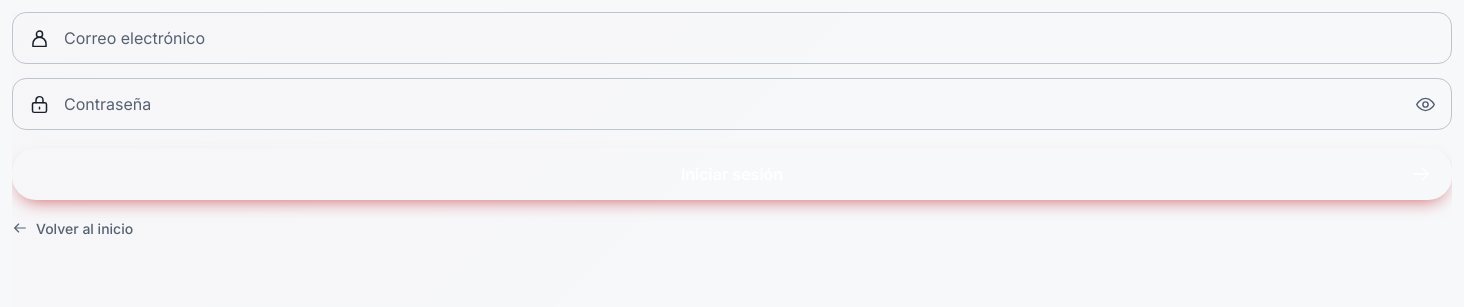
Scenario: anuncia la cuenta sin rol con role=alert y enfoca el correo
Type "bruno@example.com" into the field labelled "Correo electrónico". click: (750, 38)
box: [50,13,1451,63]
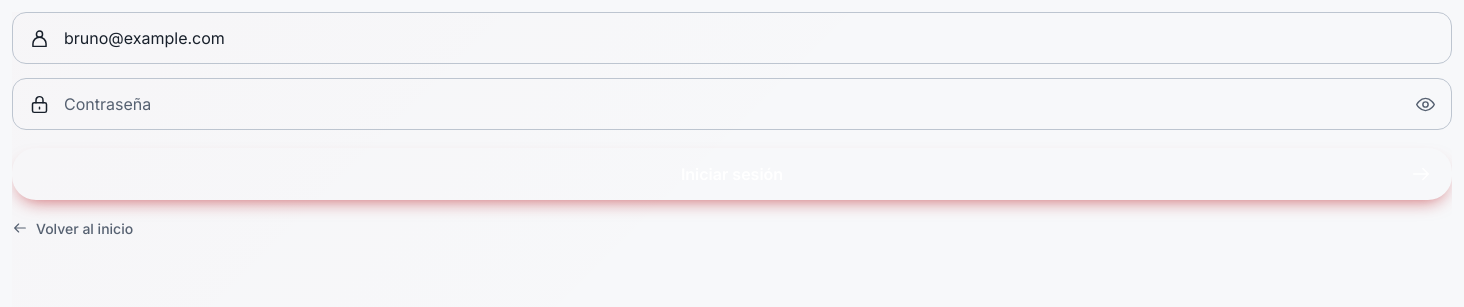
Type "temporary-password" into the password field labelled "Contraseña". click: (726, 104)
box: [50,79,1403,129]
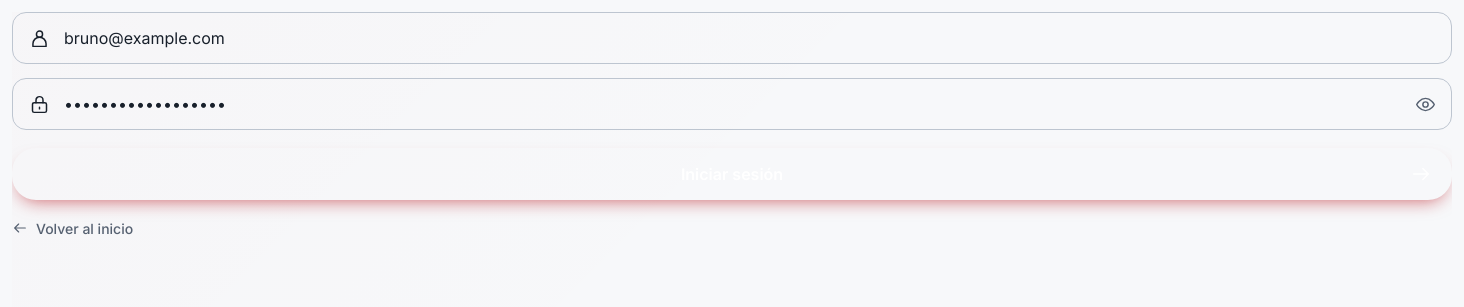
Click the button "Iniciar sesión". click: (732, 174)
box: [12,148,1452,200]
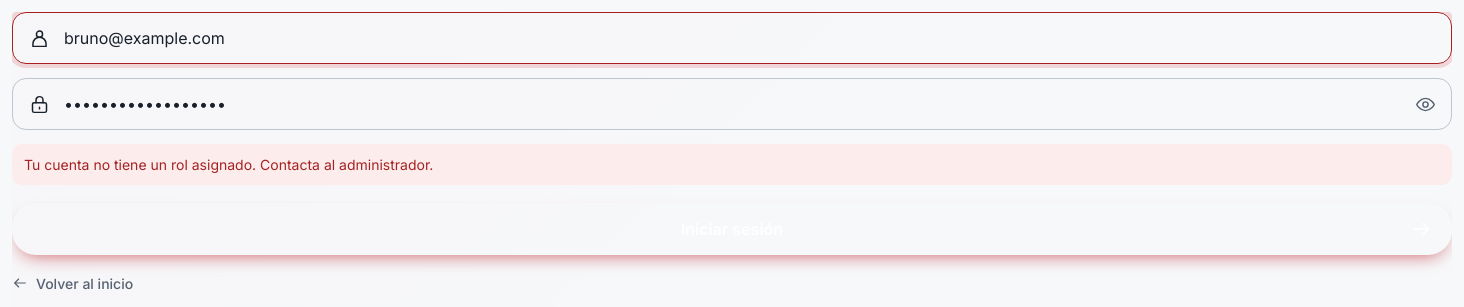
Check: the message reads "Tu cuenta no tiene un rol asignado. Contacta al administrador.", box [24,156,433,173]
